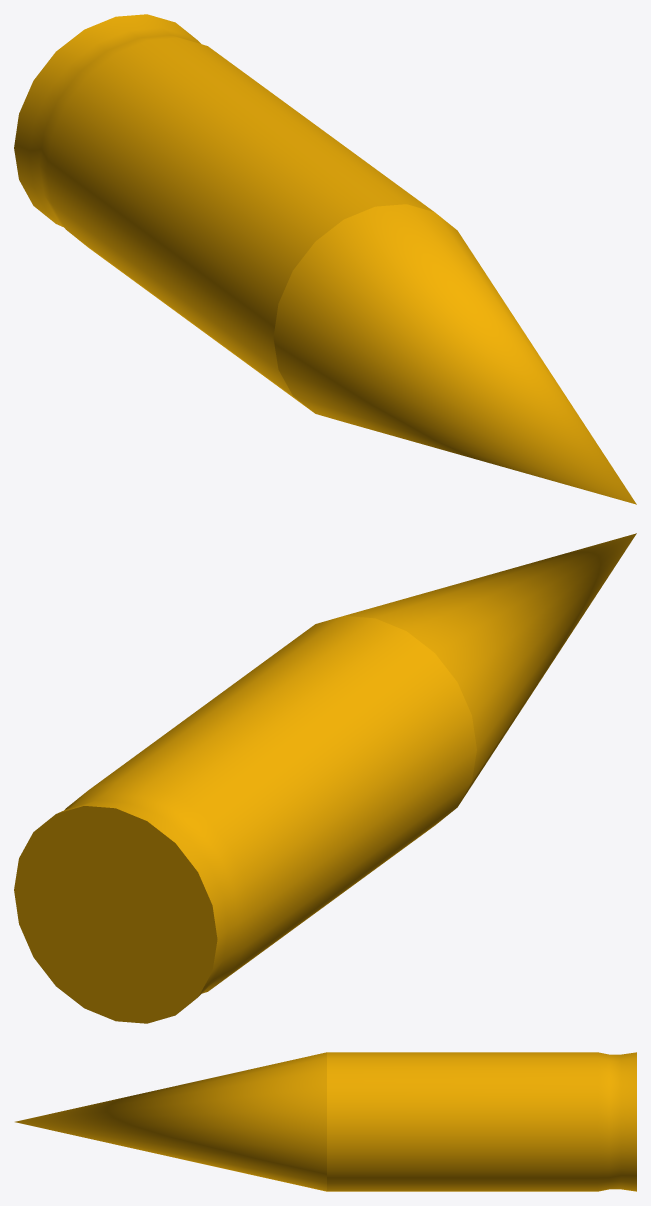
File: Bullet2.fbx
The picture shows the model from 3 angles, top to bottom: view 1: azimuth 30°, elevation 25°; view 2: azimuth 150°, elevation 25°; view 3: azimuth 270°, elevation 25°; orthographic projection. The views are drawn at different scales.
Parts seen in each view (by area): view 1: pCylinder52; view 2: pCylinder52; view 3: pCylinder52.
Boxes of the visible parts, <box> form: pCylinder52: <box>14,14,636,504</box>; pCylinder52: <box>14,533,636,1023</box>; pCylinder52: <box>15,1052,636,1191</box>.
Size of the model in its own units: 0.0308 by 0.0308 by 0.1366.
